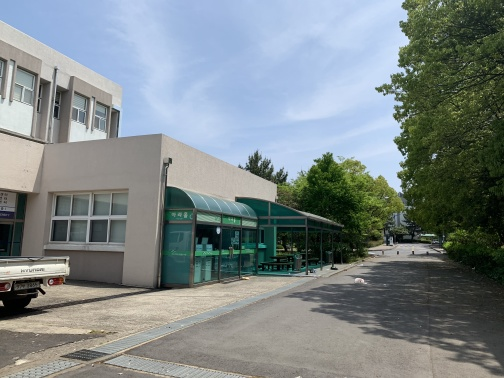Ara Hall: (44, 141, 344, 295), (164, 186, 341, 293)
